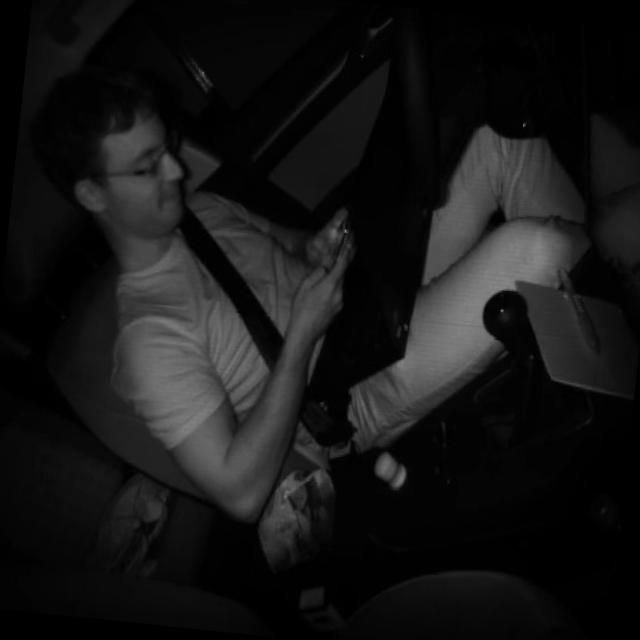pen: (549, 258, 613, 362)
